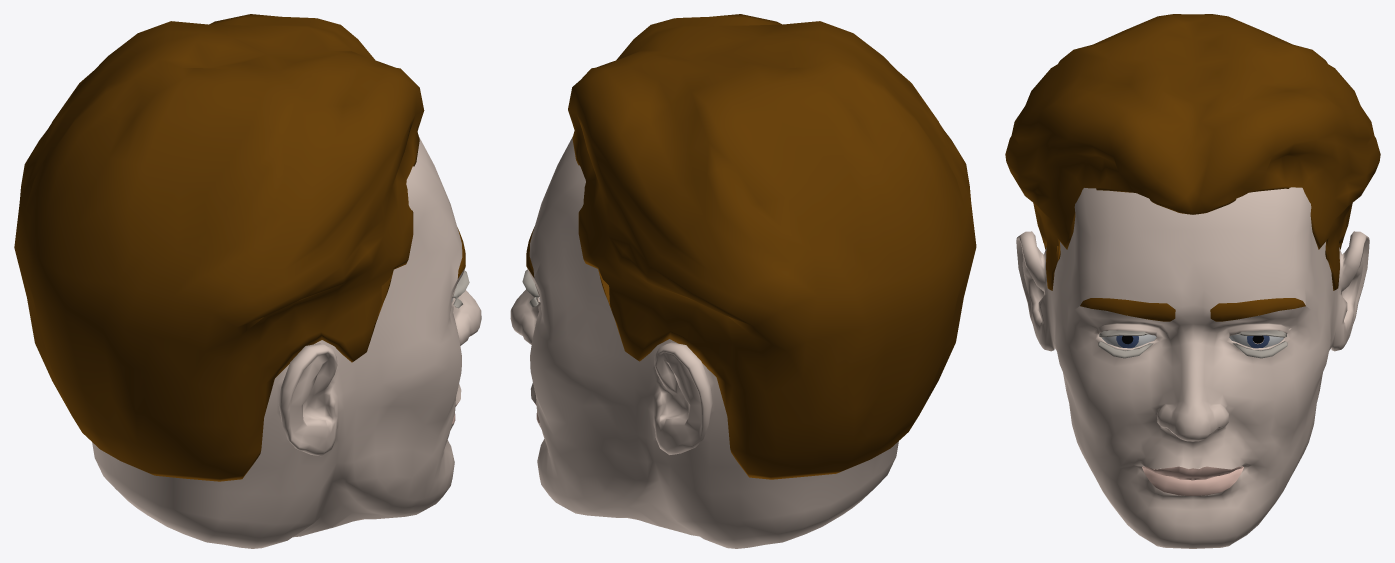
The model's file is HeadLinkFull.dae.
3 renders of one model, left to right at view 1: azimuth 30°, elevation 25°; view 2: azimuth 150°, elevation 25°; view 3: azimuth 270°, elevation 25°, orthographic. The views are drawn at different scales.
Parts seen in each view (by area): view 1: ShapeIndexedFaceSet_011, ShapeIndexedFaceSet; view 2: ShapeIndexedFaceSet_011, ShapeIndexedFaceSet; view 3: ShapeIndexedFaceSet, ShapeIndexedFaceSet_011, ShapeIndexedFaceSet_012, ShapeIndexedFaceSet_014, ShapeIndexedFaceSet_015, ShapeIndexedFaceSet_013.
Boxes of the visible parts, x1,y1,x2,y2 form: ShapeIndexedFaceSet_011: [14, 14, 424, 481]; ShapeIndexedFaceSet: [92, 137, 481, 548]; ShapeIndexedFaceSet_011: [568, 14, 976, 479]; ShapeIndexedFaceSet: [510, 137, 898, 548]; ShapeIndexedFaceSet: [1016, 187, 1369, 548]; ShapeIndexedFaceSet_011: [1005, 14, 1380, 290]; ShapeIndexedFaceSet_012: [1142, 466, 1243, 495]; ShapeIndexedFaceSet_014: [1210, 298, 1305, 321]; ShapeIndexedFaceSet_015: [1080, 298, 1175, 321]; ShapeIndexedFaceSet_013: [1142, 466, 1243, 480].
Size of the model in its own units: 0.2179 by 0.1843 by 0.2342.
